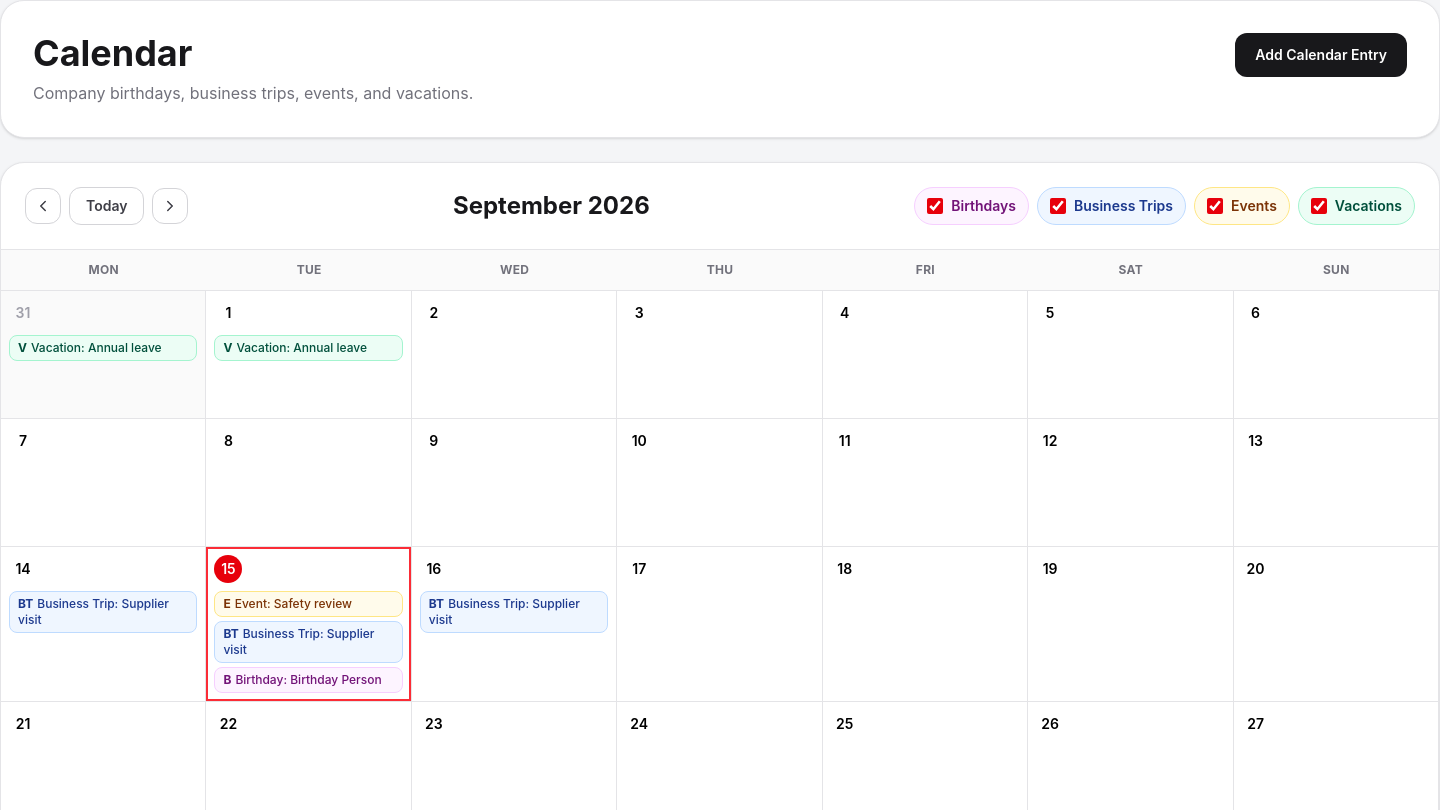
Scenario: CalendarPage › preloads and updates an Admin-opened non-Birthday entry
This screenshot has width=1440, height=810.
Step 1. Click the button "EEvent: Safety review" → (309,604), box [215,592,402,616]
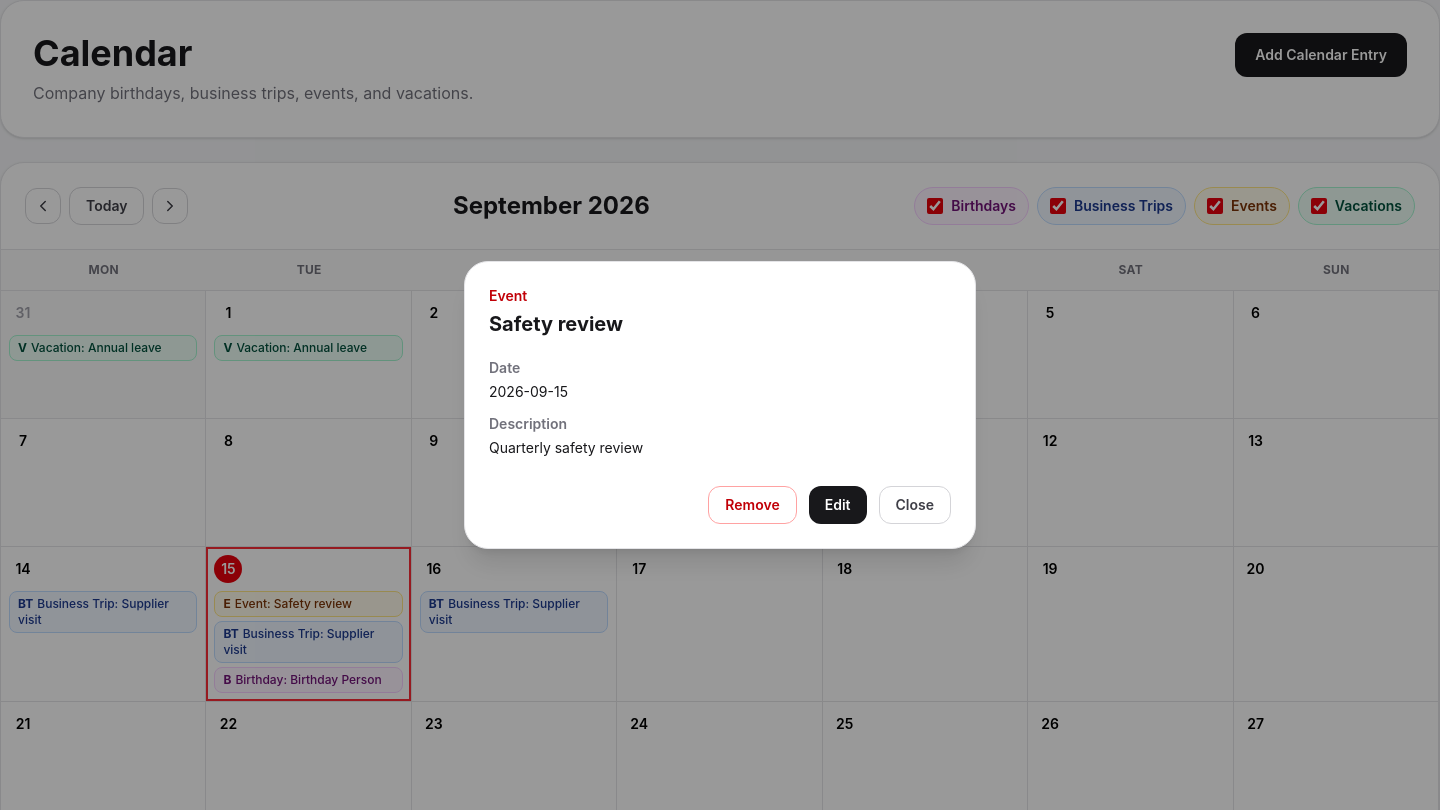
Step 2. Click the button "Edit" → (838,505), box [809,486,866,524]
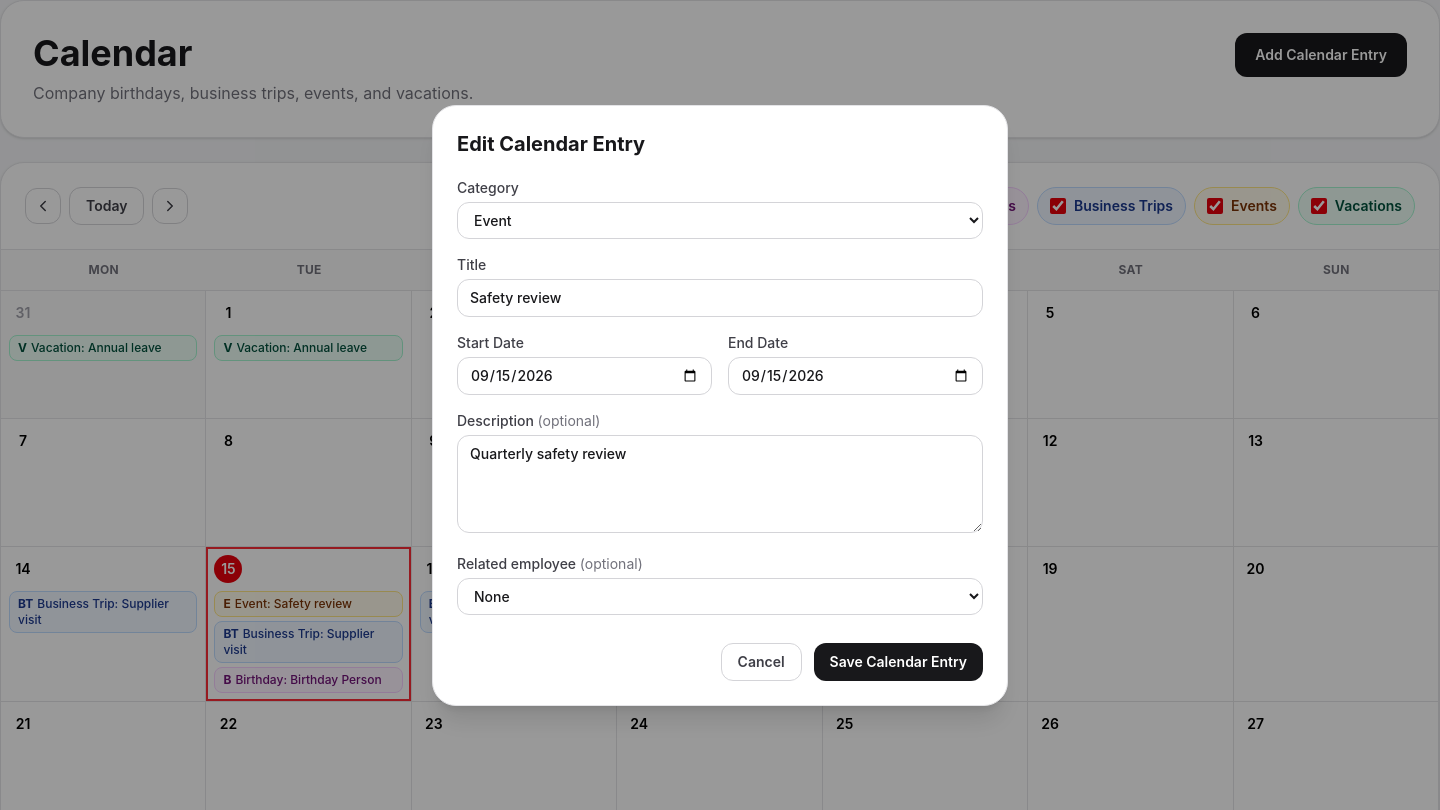
Expected: the field labelled "Title" holds "Safety review"
Expected: the date field labelled "Start Date" holds "2026-09-15", [457,356,712,394]
Expected: the text box labelled "Description (optional)" holds "Quarterly safety review", [457,434,983,532]
Step 3. Replace the text in the field labelled "Title" with "Updated review" → (720,298), box [457,278,983,316]
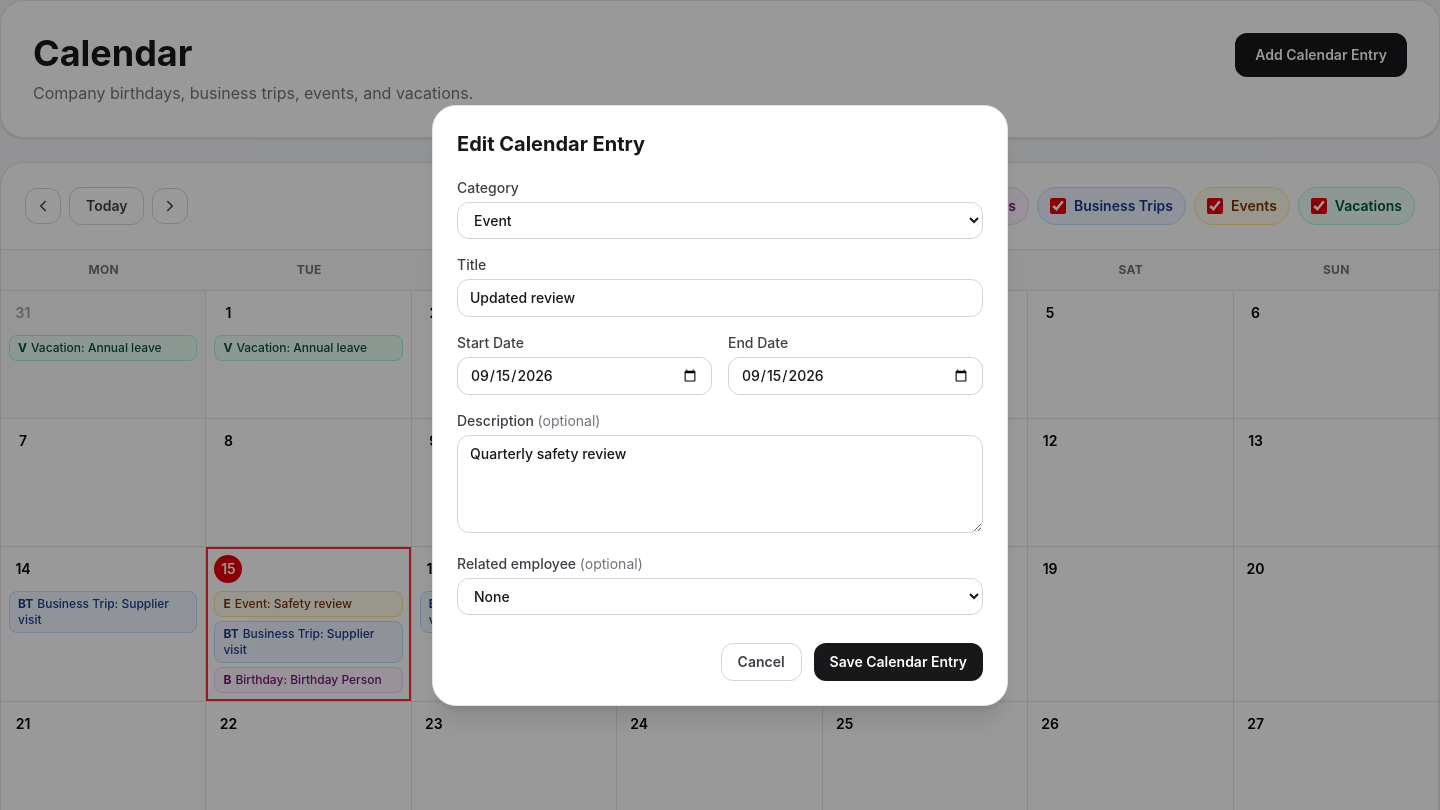
Step 4. Click the button "Save Calendar Entry" → (898,662), box [814,642,983,680]
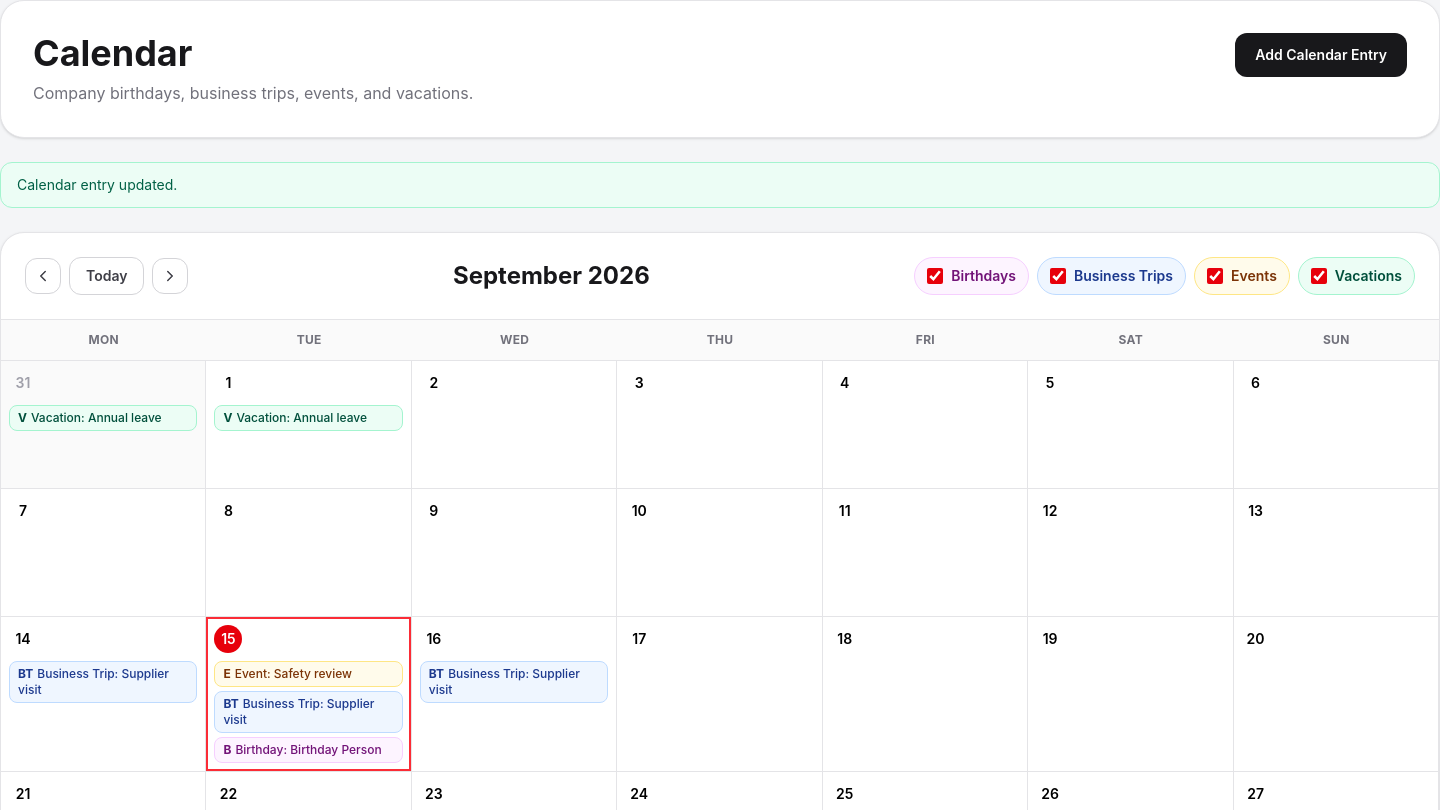
Expected: the message reads "Calendar entry updated.", [17,176,177,193]
